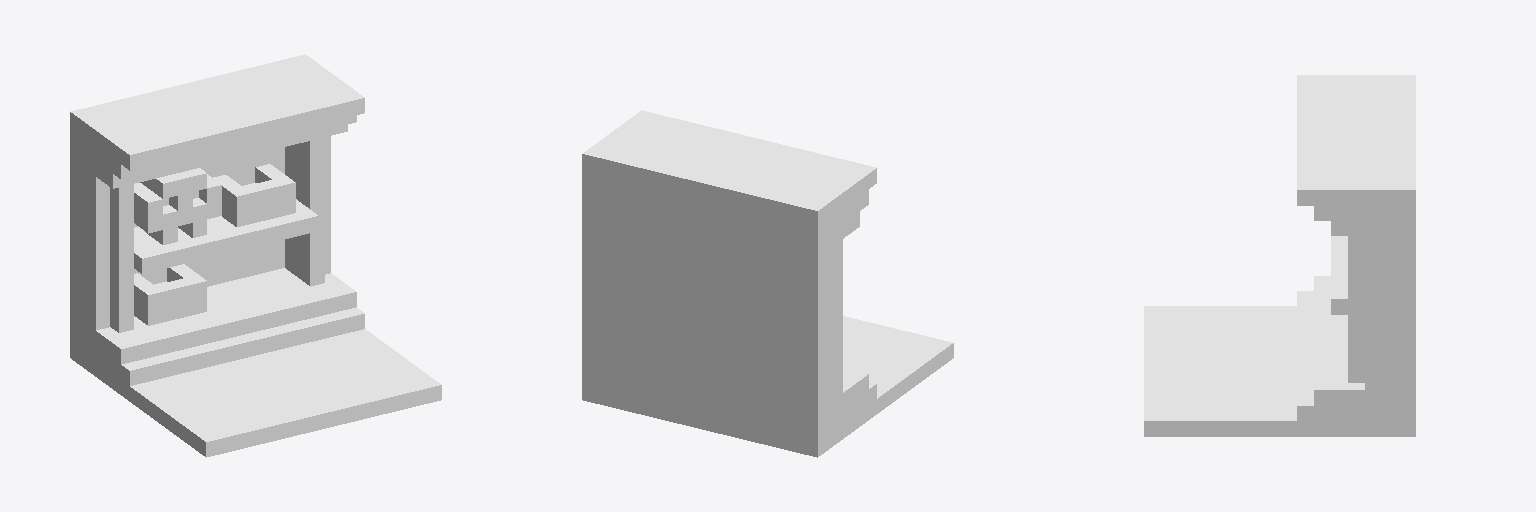
File: church-12-cata_wallskull.obj
3 views of the same model, side by side, from view 1: azimuth 30°, elevation 25°; view 2: azimuth 150°, elevation 25°; view 3: azimuth 270°, elevation 25° (orthographic).
Visible parts, largest first — view 1: cata_wallskull; view 2: cata_wallskull; view 3: cata_wallskull.
Boxes of the visible parts, x1=… form: cata_wallskull: x1=70, y1=54, x2=441, y2=457; cata_wallskull: x1=582, y1=110, x2=953, y2=457; cata_wallskull: x1=1144, y1=75, x2=1415, y2=436.
Bounding box in the file's own units: 1.6 × 1.6 × 1.6.